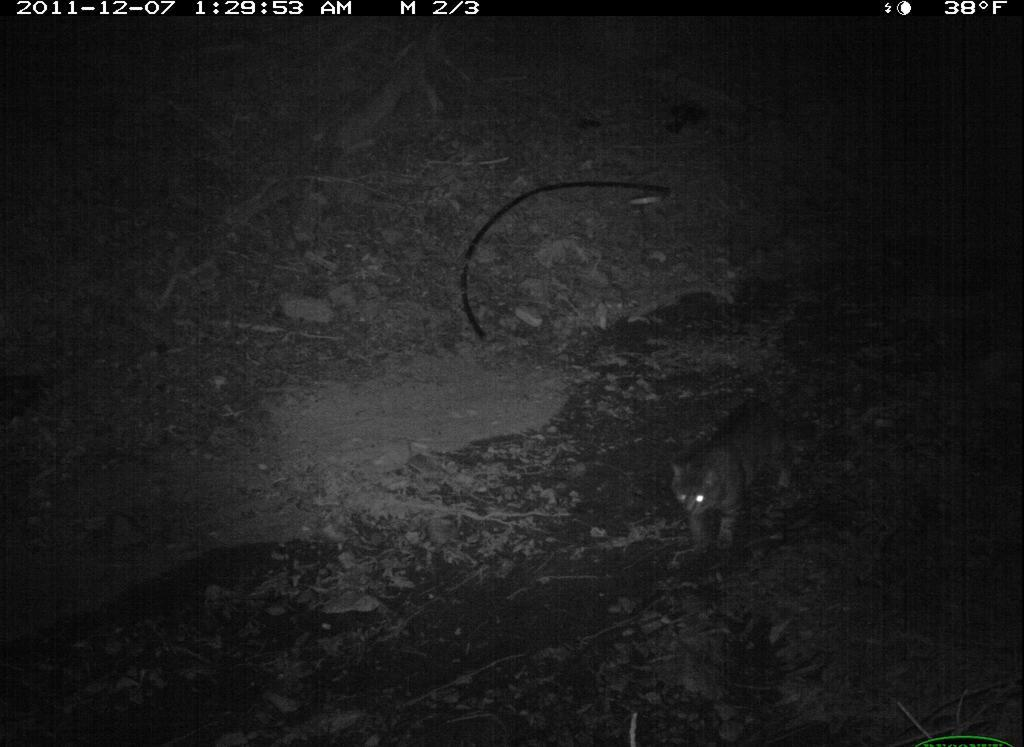cat: (656, 374, 838, 580)
